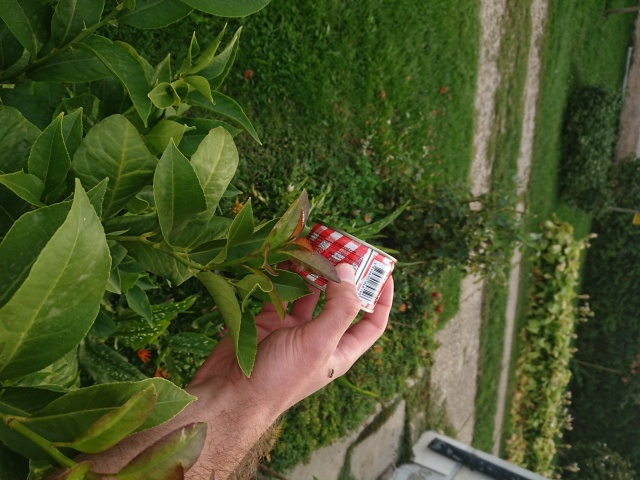Podravka Luncheon Meat 150g: (281, 216, 400, 316)
